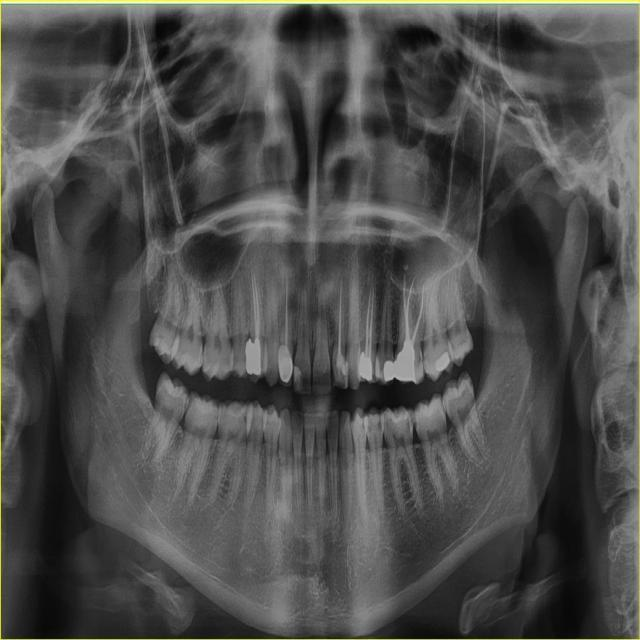74: (409, 285, 428, 348), (404, 275, 415, 342), (364, 285, 372, 358), (253, 272, 261, 343), (251, 269, 259, 338), (402, 273, 410, 339), (336, 279, 342, 352), (368, 287, 374, 360), (283, 275, 288, 344)
NucleOSS Implant: (393, 340, 416, 382), (245, 338, 264, 376), (432, 350, 454, 373), (358, 352, 373, 381), (382, 360, 396, 382)
Sterngold Implant: (415, 346, 427, 370), (178, 394, 189, 416), (240, 410, 252, 430), (225, 345, 234, 370), (383, 412, 392, 436), (363, 417, 374, 436), (421, 346, 430, 367), (376, 414, 384, 436), (414, 413, 421, 435), (406, 414, 413, 436), (458, 337, 468, 349), (361, 416, 367, 436), (467, 377, 473, 391)
Straumann Implant: (330, 352, 350, 389), (292, 363, 307, 395)
Zimmer Implant: (278, 344, 293, 385)
